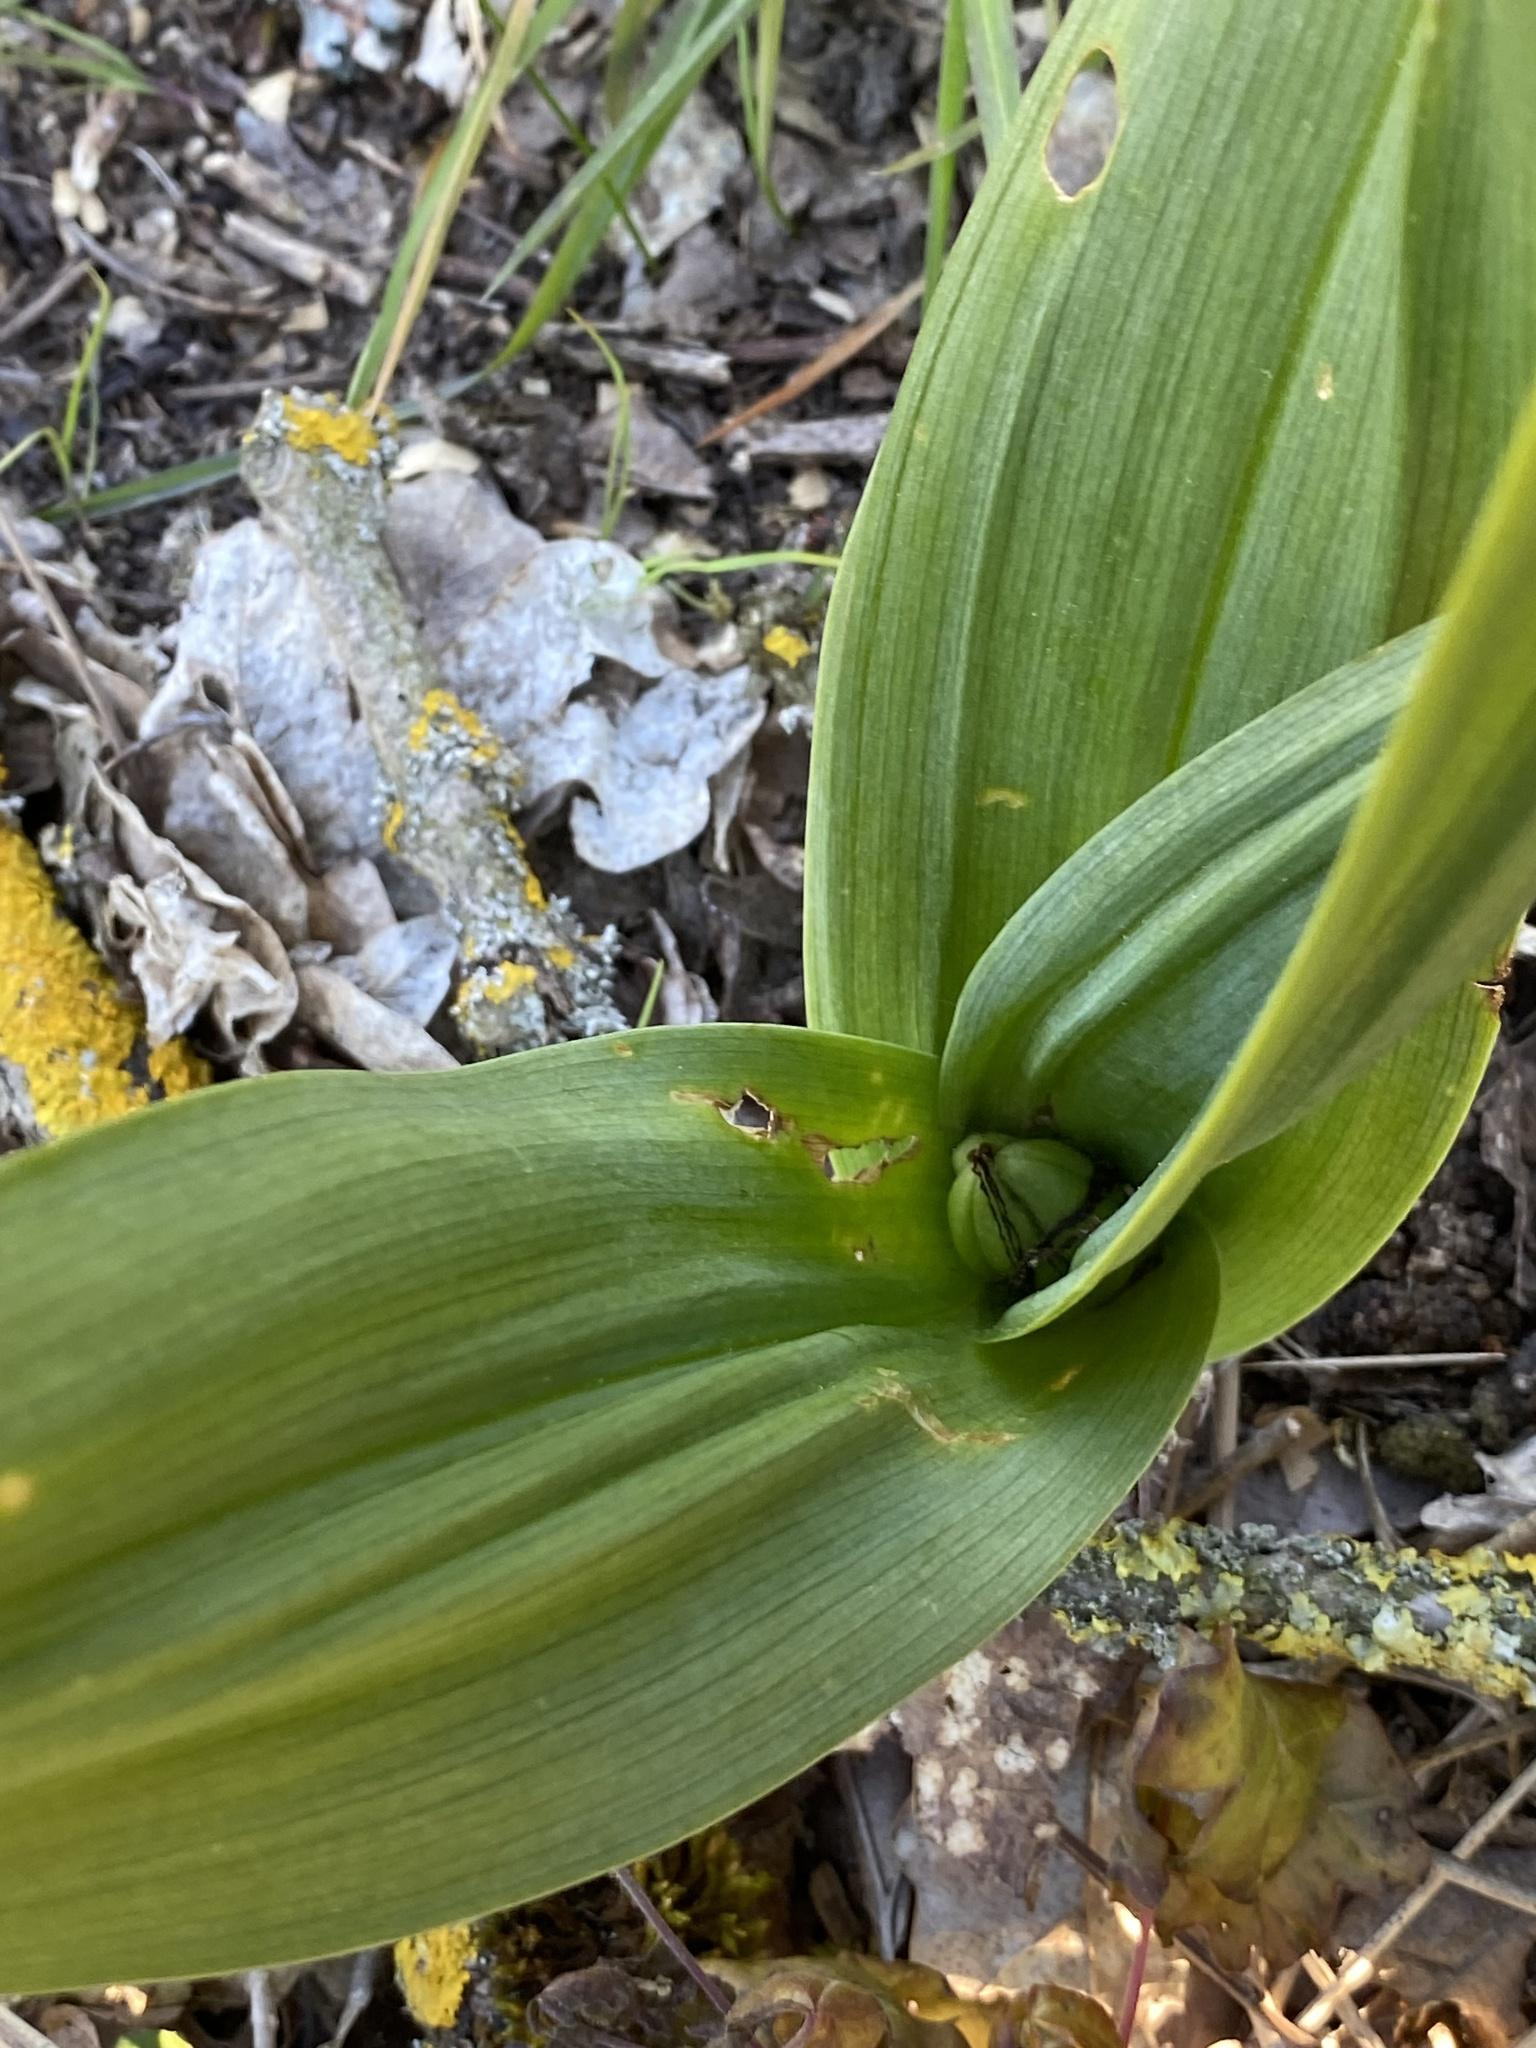Colchicum autumnale L: (3, 0, 1536, 2009)
